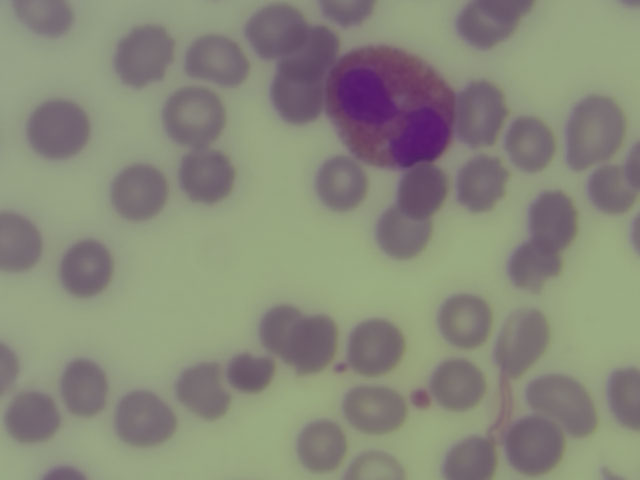Platelets: (410, 384, 434, 412), (333, 356, 350, 380)
RBC: (455, 77, 501, 149), (533, 374, 590, 428), (499, 308, 546, 372), (439, 294, 491, 345), (377, 206, 429, 257), (508, 418, 560, 469), (444, 429, 496, 480), (434, 358, 486, 409), (347, 381, 399, 432), (294, 419, 346, 470), (175, 367, 227, 418), (116, 392, 168, 443), (59, 361, 111, 412), (8, 391, 60, 442), (224, 347, 276, 398), (350, 321, 402, 372), (290, 318, 342, 369), (254, 304, 306, 355), (397, 161, 449, 212), (510, 243, 562, 294), (528, 190, 580, 241), (588, 160, 640, 211), (569, 101, 621, 152), (506, 117, 558, 168), (315, 159, 367, 210), (271, 68, 323, 119), (284, 28, 336, 79), (247, 3, 299, 54), (60, 242, 112, 293), (31, 105, 83, 156), (113, 167, 165, 218), (179, 153, 231, 204), (168, 91, 220, 142), (189, 33, 241, 84), (117, 29, 169, 80), (456, 160, 509, 210), (1, 212, 45, 272), (457, 1, 509, 50), (605, 361, 640, 429), (15, 1, 73, 37), (349, 447, 403, 480), (318, 1, 373, 28), (1, 340, 25, 397), (475, 1, 538, 22)
WBC: (334, 49, 451, 167)
